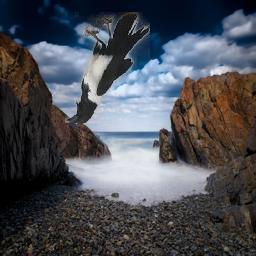Crow: (66, 13, 151, 124)
